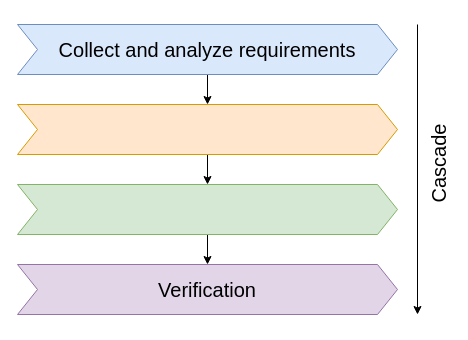
The diagram is 468 pixels wide and 340 high, and some of its shapes have lost their labels. Here are the shapes that lost their labels. From the top down, the centre of each, then its label:
At point 207,129: "Architecture definition".
At point 207,209: "Implementation".
